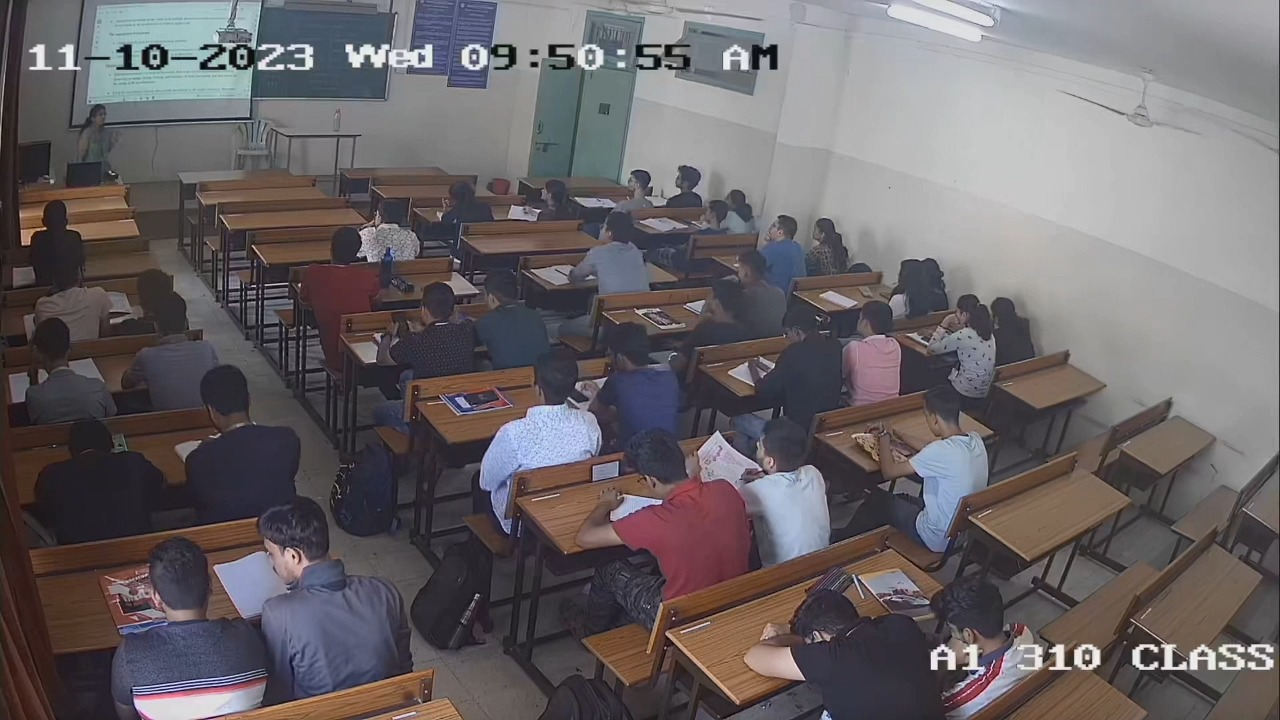cell-phones: (588, 461, 622, 482), (389, 312, 411, 344), (463, 389, 499, 407), (563, 382, 585, 406), (753, 356, 772, 376), (856, 286, 875, 298)
person: (574, 429, 748, 609), (489, 351, 603, 464), (585, 319, 679, 443), (378, 281, 474, 399), (754, 303, 841, 428), (886, 259, 930, 316)
